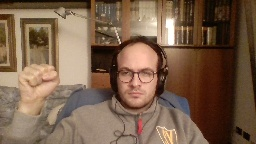Pugno: (16, 61, 62, 105)
